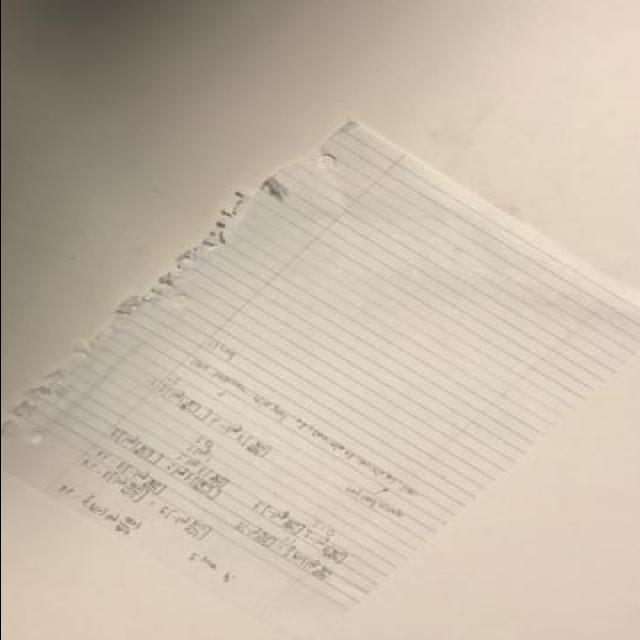kertas: (0, 117, 640, 640)
